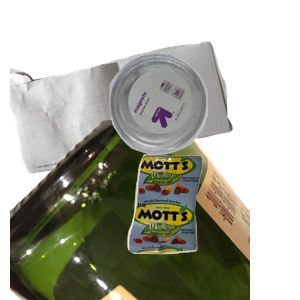glass: (10, 120, 250, 300)
paper: (10, 39, 236, 205)
plastic: (107, 51, 300, 199)
trash: (125, 152, 300, 300)
